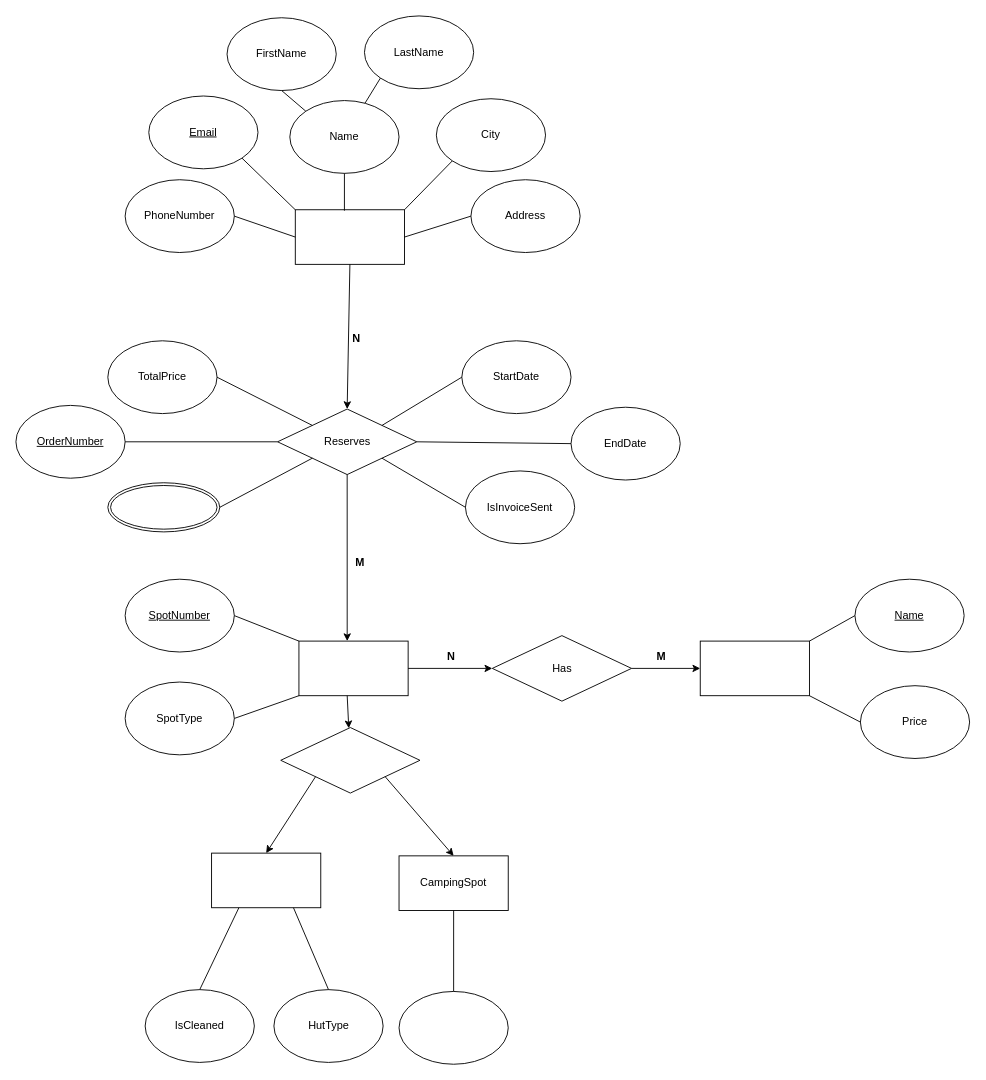
Some shapes in this 986 by 1080 pixel diagram are drawn without their labels. The shapes that lost their labels are listed below. From the top down, each one's centre as x and y in pixels, then its label:
At (x=349, y=236): "Customer".
At (x=163, y=507): "CustomerType".
At (x=353, y=668): "Spot".
At (x=754, y=668): "Addition".
At (x=350, y=760): "Either Has".
At (x=266, y=880): "HutSpot".
At (x=453, y=1027): "CampingType".
